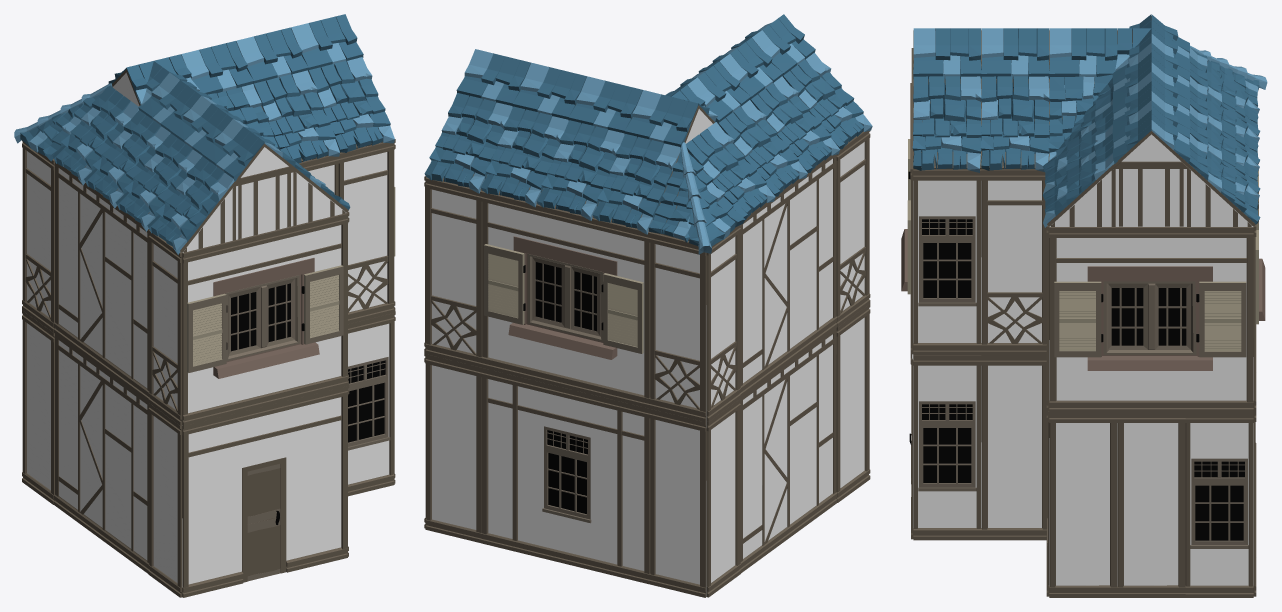
Rendered from House_12_full.glb.
3 renders of one model, left to right at view 1: azimuth 30°, elevation 25°; view 2: azimuth 150°, elevation 25°; view 3: azimuth 270°, elevation 25°, orthographic. The views are drawn at different scales.
Visible parts, largest first — view 1: WINDOW_06_2, DOOR_05_2, WALL_05_3, WALL_05_2, WALL_04_4, WINDOW_04_4, WALL_04_8, WALL_03_10, WALL_03_9, WALL_04_7, ROOF_base_6, ROOF_base_5 (+20 smaller); view 2: WINDOW_06_4, WINDOW_03_2, WALL_05_2, WALL_05_3, WALL_04_5, WALL_03_8, WALL_04_6, WALL_03_7, WALL_03_9, WALL_04_7, WALL_04_8, WALL_03_10 (+16 smaller); view 3: WINDOW_06_3, WINDOW_04_6, WINDOW_04_3, WALL_03_5, WALL_03_6, WINDOW_04_5, WALL_03_3, WALL_04_3, ROOF_base_3, ROOF_base_4, ROOF_up_quad_3, ROOF_inner_corner_3 (+28 smaller).
Part boxes in pixels (x1,y1,x2,y2): WINDOW_06_2: (182,213,348,425); DOOR_05_2: (182,386,348,597); WALL_05_3: (54,161,149,401); WALL_05_2: (54,334,149,573); WALL_04_4: (338,142,394,323); WINDOW_04_4: (348,313,394,496); WALL_04_8: (148,230,182,425); WALL_03_10: (148,402,182,597); WALL_03_9: (22,310,55,504); WALL_04_7: (22,141,55,332); ROOF_base_6: (308,57,394,152); ROOF_base_5: (254,70,339,163); WINDOW_06_4: (481,191,650,408); WINDOW_03_2: (481,367,650,584); WALL_05_2: (739,328,837,573); WALL_05_3: (739,154,837,397); WALL_04_5: (425,177,482,367); WALL_03_8: (649,408,706,597); WALL_04_6: (649,232,706,421); WALL_03_7: (425,354,481,542); WALL_03_9: (706,398,740,597); WALL_04_7: (706,225,740,421); WALL_04_8: (836,131,870,326); WALL_03_10: (836,304,870,502); WINDOW_06_3: (1049,226,1253,412); WINDOW_04_6: (913,169,981,355); WINDOW_04_3: (913,355,981,540); WALL_03_5: (1049,413,1117,597); WALL_03_6: (1117,413,1185,597); WINDOW_04_5: (1185,413,1253,597); WALL_03_3: (981,355,1047,540); WALL_04_3: (981,169,1047,355); ROOF_base_3: (912,76,981,172); ROOF_base_4: (980,74,1049,172); ROOF_up_quad_3: (1117,169,1185,226); ROOF_inner_corner_3: (1048,74,1113,160).
Size of the model in its own units: 5.31 by 7.59 by 5.38.
Materials: 1 (1 with a texture image).
